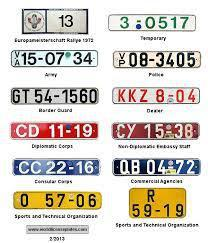0: (88, 87, 98, 105), (176, 51, 186, 67), (119, 160, 129, 175), (20, 192, 29, 208), (77, 193, 86, 209), (128, 51, 137, 67), (176, 89, 185, 104), (146, 160, 155, 174)
1: (144, 123, 152, 138), (19, 50, 26, 66), (57, 123, 64, 138), (73, 123, 80, 138), (76, 160, 83, 174), (163, 203, 170, 217), (62, 89, 69, 103), (49, 124, 55, 138), (170, 16, 177, 28), (58, 15, 64, 28)
2: (186, 159, 196, 175), (46, 160, 56, 175), (57, 160, 67, 174), (138, 89, 147, 102)
3: (155, 51, 165, 67), (175, 123, 183, 139), (64, 14, 73, 28), (72, 52, 82, 64), (120, 16, 129, 28)
4: (165, 51, 175, 66), (157, 160, 167, 174), (43, 88, 52, 103), (186, 89, 194, 102), (129, 89, 136, 103), (83, 52, 91, 64)
5: (131, 202, 141, 218), (186, 52, 196, 68), (69, 88, 79, 104), (154, 122, 163, 138), (34, 89, 43, 104), (26, 52, 36, 65), (45, 193, 54, 207), (159, 16, 168, 28)
6: (88, 192, 97, 209), (79, 88, 88, 104), (84, 160, 94, 174)
7: (56, 192, 65, 207), (175, 160, 184, 174), (56, 52, 65, 66), (180, 17, 189, 29)
8: (155, 89, 165, 103), (139, 51, 148, 66), (185, 123, 193, 139)
9: (82, 123, 93, 137), (175, 202, 184, 218), (143, 203, 152, 218)
B: (131, 159, 140, 175), (145, 193, 153, 210)
C: (18, 160, 30, 175), (30, 160, 42, 175), (16, 123, 28, 137), (117, 123, 126, 139)
D: (28, 124, 40, 138)
G: (12, 88, 21, 104)
K: (118, 88, 127, 101)
O: (44, 52, 55, 65), (145, 15, 155, 29)
R: (147, 188, 156, 203)
T: (22, 88, 30, 104)
Y: (126, 123, 136, 139)
